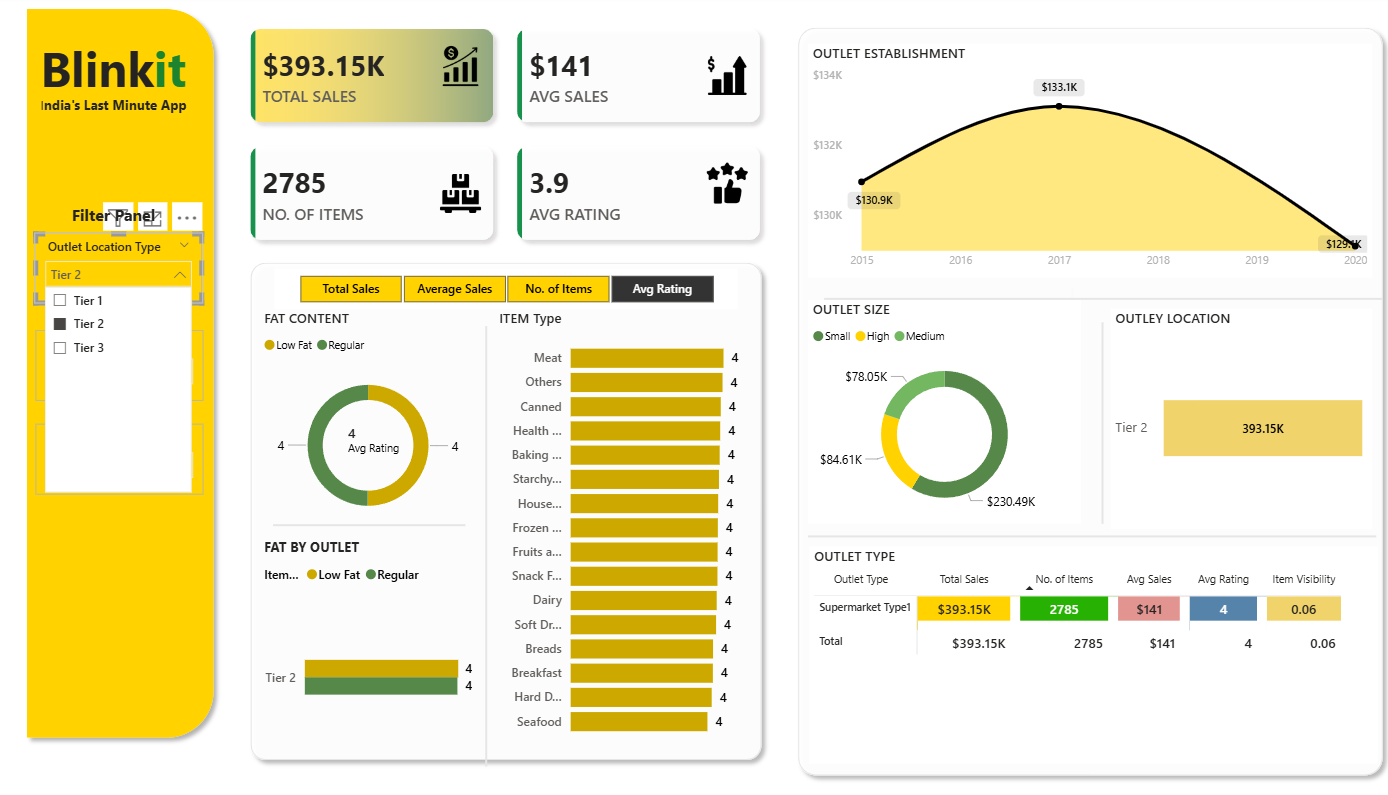

The dashboard page shown, as its layout file describes it:
{"tool":"powerbi","page":{"name":"Page 1","canvas":[1400,800],"ordinal":0},"visuals":[{"type":"shape","box":[19.5,0,205.6,750.4],"z":0},{"type":"textbox","box":[37.5,30,169.6,78],"z":1000},{"type":"textbox","box":[37.5,91.6,169.6,30],"z":2000},{"type":"cardVisual","fields":{"Data":["BlinkIT Grocery Data.Total Sales","BlinkIT Grocery Data.Average Sales","BlinkIT Grocery Data.No. of Items","BlinkIT Grocery Data.Avg Rating"]},"box":[225.1,0,570.3,270.2],"z":3000},{"type":"shape","box":[244.6,255.1,531.3,517.8],"z":4000},{"type":"donutChart","title":"FAT CONTENT","fields":{"Y":["BlinkIT Grocery Data.Total Sales"],"Category":["BlinkIT Grocery Data.Item Fat Content"]},"box":[262.7,310.7,219.1,229.6],"z":5000},{"type":"slicer","fields":{"Values":["Metrics.Metrics"]},"box":[277.7,270.2,465.3,40.5],"z":6000},{"type":"cardVisual","fields":{"Data":["BlinkIT Grocery Data.Total Sales"]},"box":[322.7,400.7,120.1,81],"z":7000},{"type":"clusteredBarChart","title":"FAT BY OUTLET","fields":{"Y":["BlinkIT Grocery Data.Total Sales"],"Category":["BlinkIT Grocery Data.Outlet Location Type"],"Series":["BlinkIT Grocery Data.Item Fat Content"]},"box":[262.7,540.3,219.1,229.6],"z":8000},{"type":"shape","box":[276,515.1,193.3,25.4],"z":9000},{"type":"shape","box":[1072.1,290,16.5,225.1],"z":10000},{"type":"barChart","title":"ITEM Type","fields":{"Y":["BlinkIT Grocery Data.Total Sales"],"Category":["BlinkIT Grocery Data.Item Type"]},"box":[498.3,310.7,255.1,439.8],"z":11000},{"type":"shape","box":[794.9,19.1,605.4,769.4],"z":12000},{"type":"lineChart","title":"OUTLET ESTABLISHMENT","fields":{"Y":["BlinkIT Grocery Data.Total Sales"],"Category":["BlinkIT Grocery Data.Outlet Establishment Year"]},"box":[814,44.5,567.2,235.3],"z":13000},{"type":"shape","box":[814,527.8,571,22.9],"z":14000},{"type":"donutChart","title":"OUTLET SIZE","fields":{"Y":["BlinkIT Grocery Data.Total Sales"],"Category":["BlinkIT Grocery Data.Outlet Size"]},"box":[814,301.4,274.7,225.1],"z":15000},{"type":"shape","box":[1100.1,324.3,19.1,202.2],"z":16000},{"type":"shape","box":[482,328.1,16.5,442.6],"z":17000},{"type":"funnel","title":"OUTLEY LOCATION","fields":{"Y":["Sum(BlinkIT Grocery Data.Sales)"],"Category":["BlinkIT Grocery Data.Outlet Location Type"]},"box":[1117.9,310.3,263.3,221.3],"z":18000},{"type":"shape","box":[830.3,288.5,560.9,22.9],"z":19000},{"type":"pivotTable","title":"OUTLET TYPE","fields":{"Values":["BlinkIT Grocery Data.Total Sales","BlinkIT Grocery Data.No. of Items","BlinkIT Grocery Data.Average Sales","BlinkIT Grocery Data.Avg Rating","Avg(BlinkIT Grocery Data.Item Visibility)"],"Rows":["BlinkIT Grocery Data.Outlet Type"]},"box":[815.2,549.4,571,218.8],"z":20000},{"type":"slicer","fields":{"Values":["BlinkIT Grocery Data.Outlet Location Type"]},"box":[36.9,234,169.2,71.2],"z":21000},{"type":"slicer","fields":{"Values":["BlinkIT Grocery Data.Outlet Size"]},"box":[38.2,331.9,169.2,71.2],"z":22000},{"type":"slicer","fields":{"Values":["BlinkIT Grocery Data.Item Type"]},"box":[38.2,426.1,169.2,71.2],"z":23000},{"type":"textbox","box":[68.7,199.7,106.8,34.3],"z":24000}]}

Visuals, with their boxes on the page's 1400x800 design canvas (x1, y1, x2, y2). These are canvas units, not pixel positions in the 1388x795 screenshot, which may show the page scaled, cropped or inside an application window:
shape: box(20, 0, 225, 750)
textbox: box(38, 30, 207, 108)
textbox: box(38, 92, 207, 122)
cardVisual - BlinkIT Grocery Data.Total Sales x BlinkIT Grocery Data.Average Sales: box(225, 0, 795, 270)
shape: box(245, 255, 776, 773)
"FAT CONTENT" donutChart: box(263, 311, 482, 540)
slicer - Metrics.Metrics: box(278, 270, 743, 311)
cardVisual - BlinkIT Grocery Data.Total Sales: box(323, 401, 443, 482)
"FAT BY OUTLET" clusteredBarChart: box(263, 540, 482, 770)
shape: box(276, 515, 469, 540)
shape: box(1072, 290, 1089, 515)
"ITEM Type" barChart: box(498, 311, 753, 750)
shape: box(795, 19, 1400, 788)
"OUTLET ESTABLISHMENT" lineChart: box(814, 44, 1381, 280)
shape: box(814, 528, 1385, 551)
"OUTLET SIZE" donutChart: box(814, 301, 1089, 526)
shape: box(1100, 324, 1119, 526)
shape: box(482, 328, 498, 771)
"OUTLEY LOCATION" funnel: box(1118, 310, 1381, 532)
shape: box(830, 288, 1391, 311)
"OUTLET TYPE" pivotTable: box(815, 549, 1386, 768)
slicer - BlinkIT Grocery Data.Outlet Location Type: box(37, 234, 206, 305)
slicer - BlinkIT Grocery Data.Outlet Size: box(38, 332, 207, 403)
slicer - BlinkIT Grocery Data.Item Type: box(38, 426, 207, 497)
textbox: box(69, 200, 176, 234)
